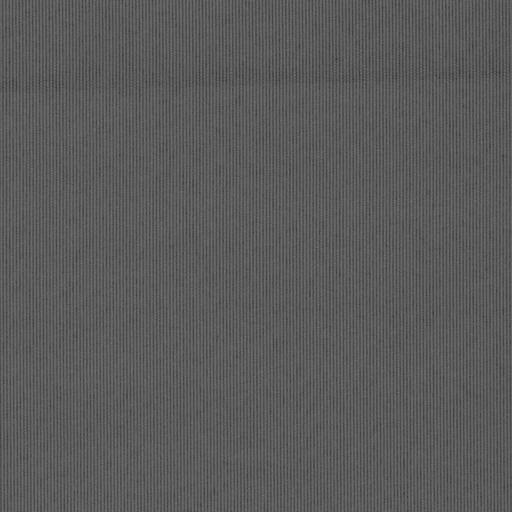defect: (2, 63, 512, 101)
